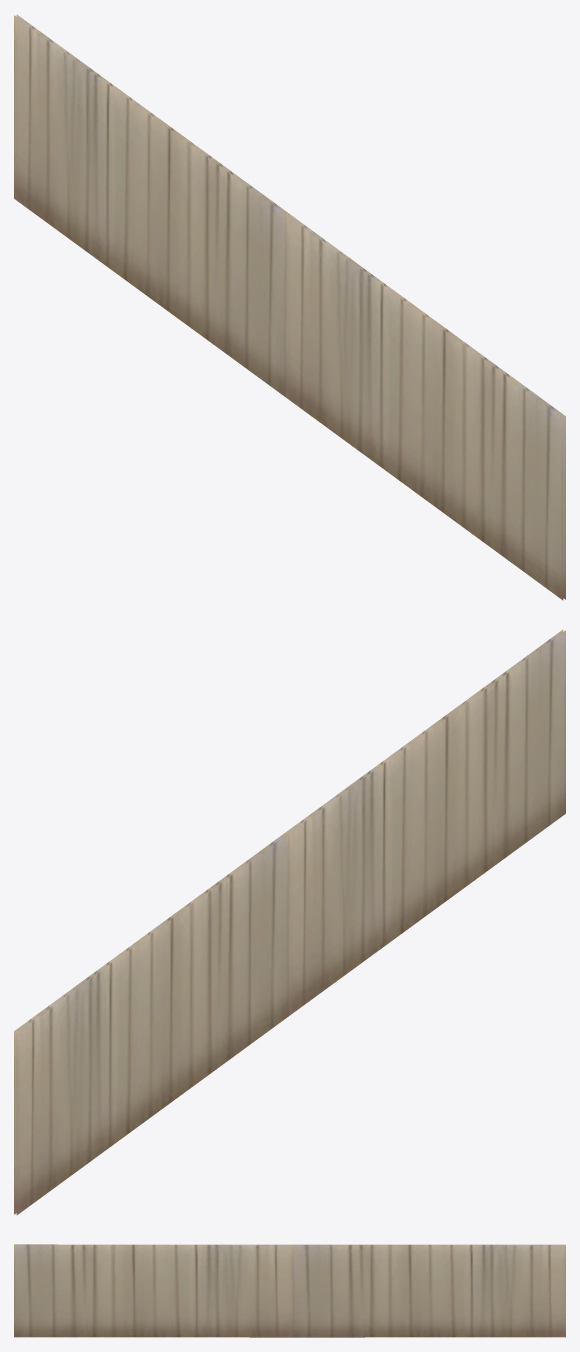
Rendered from woodenfencediag_hdtex.glb.
3 views of the same model, one above another, from view 1: azimuth 30°, elevation 25°; view 2: azimuth 150°, elevation 25°; view 3: azimuth 270°, elevation 25° (orthographic). The views are drawn at different scales.
Visible parts, largest first — view 1: woodenfencediag; view 2: woodenfencediag; view 3: woodenfencediag.
Boxes of the visible parts, <box> form: woodenfencediag: <box>14,14,565,600</box>; woodenfencediag: <box>14,629,565,1215</box>; woodenfencediag: <box>14,1244,565,1337</box>.
Size of the model in its own units: 0.0381 by 2.25 by 12.18.
Materials: 1 (1 with a texture image).
